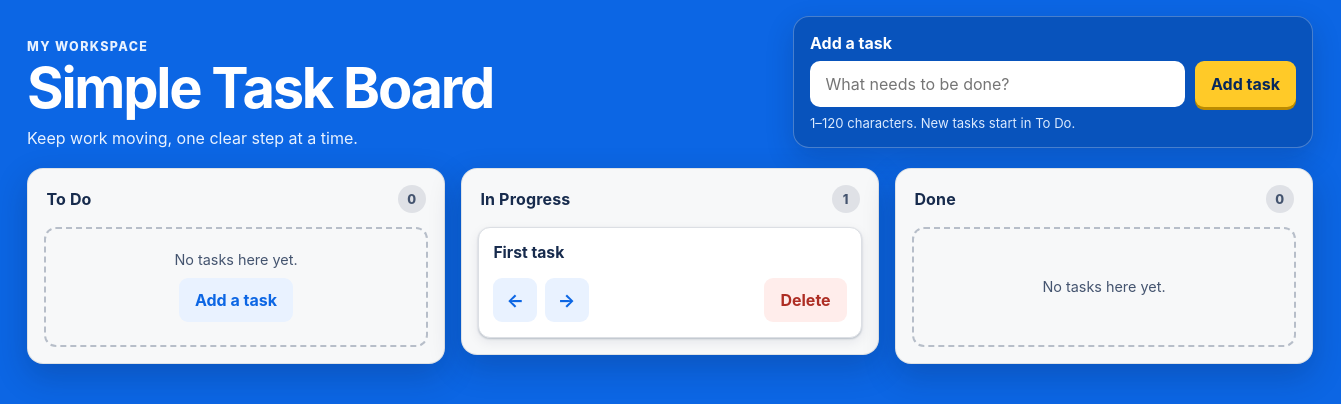
Test case: task board UI › focuses the title input when the emptied in_progress column has no action
The width and height of the screenshot is (1341, 404).
Click the button "Delete".
click(806, 300)  # box [764,278,847,322]
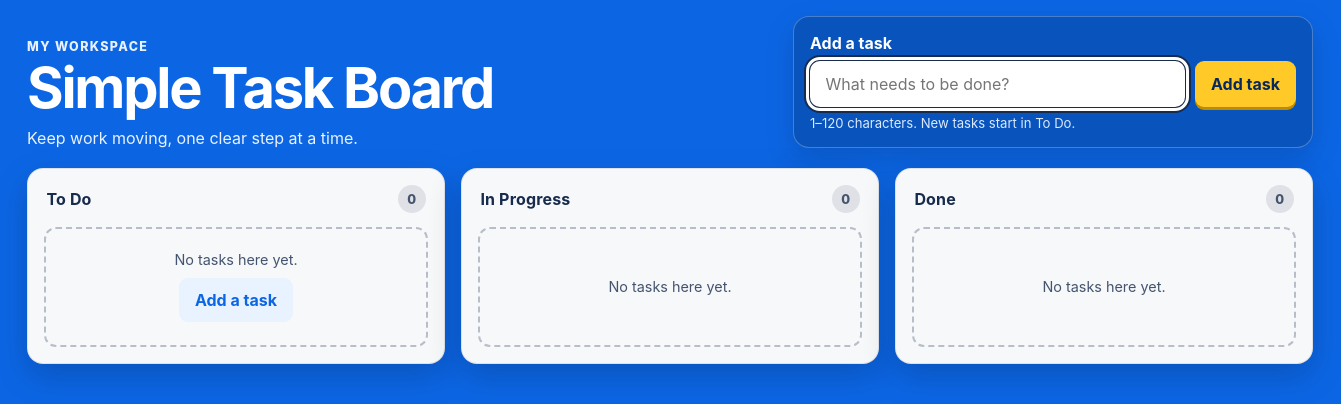
Expected: the text "No tasks here yet." below "In Progress" is shown, [608,278,732,295]
